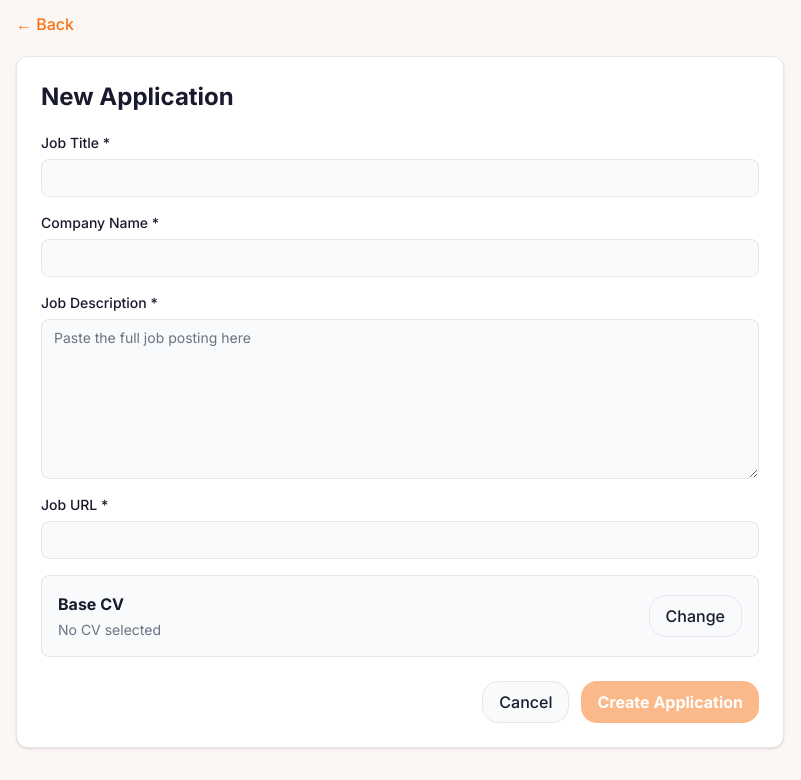
Test case: FE-UI-010 — submission states › shows a client-side inline error when the URL format is invalid and does not submit
Step 1. Type "Software Engineer" into the field labelled "Job Title *" → [400, 178], box 41,159 -> 759,197
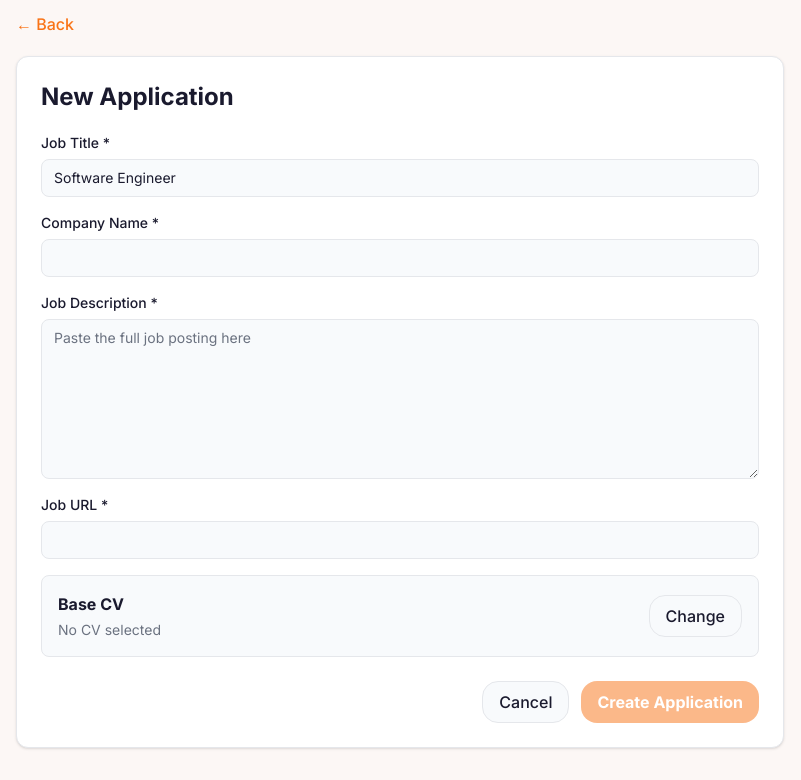
Step 2. Type "Acme Corp" into the field labelled "Company Name *" → [400, 258], box 41,239 -> 759,277
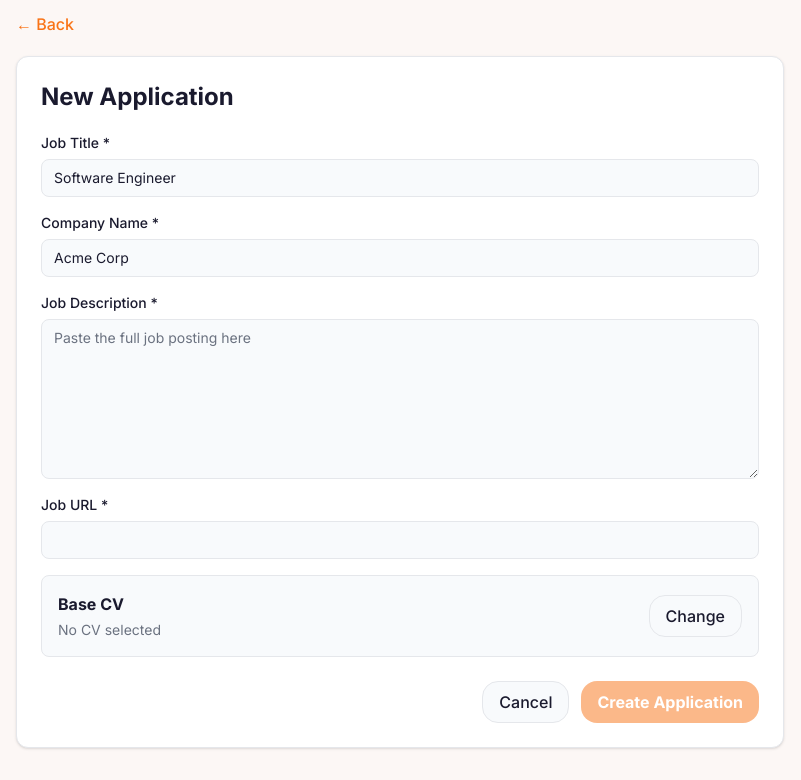
Step 3. Type "Build resilient customer-facing frontend systems." into the text box labelled "Job Description *" → [400, 399], box 41,319 -> 759,479
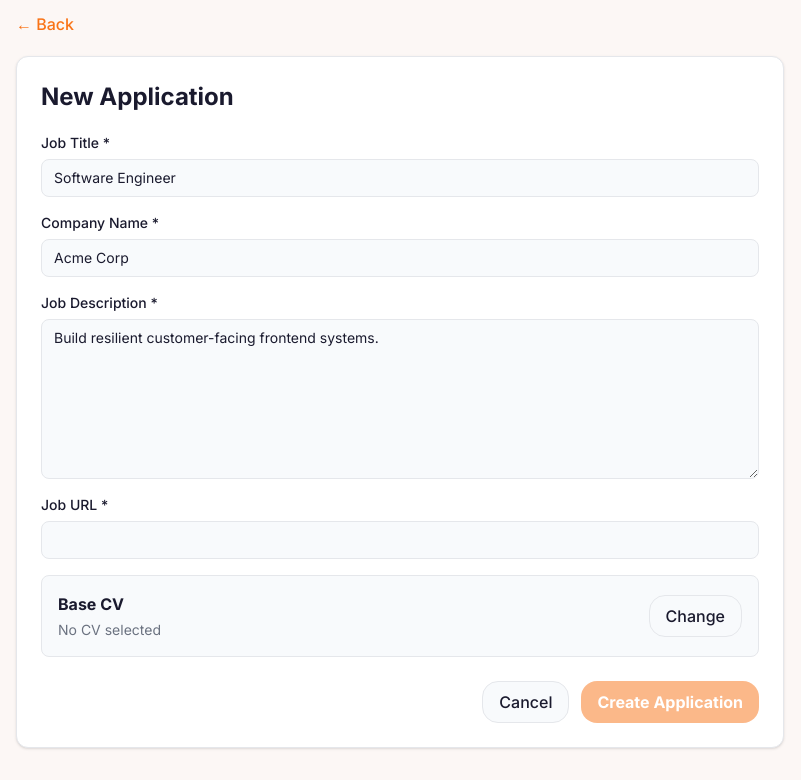
Step 4. Type "ftp://acme.example/jobs/1" into the field labelled "Job URL *" → [400, 540], box 41,521 -> 759,559
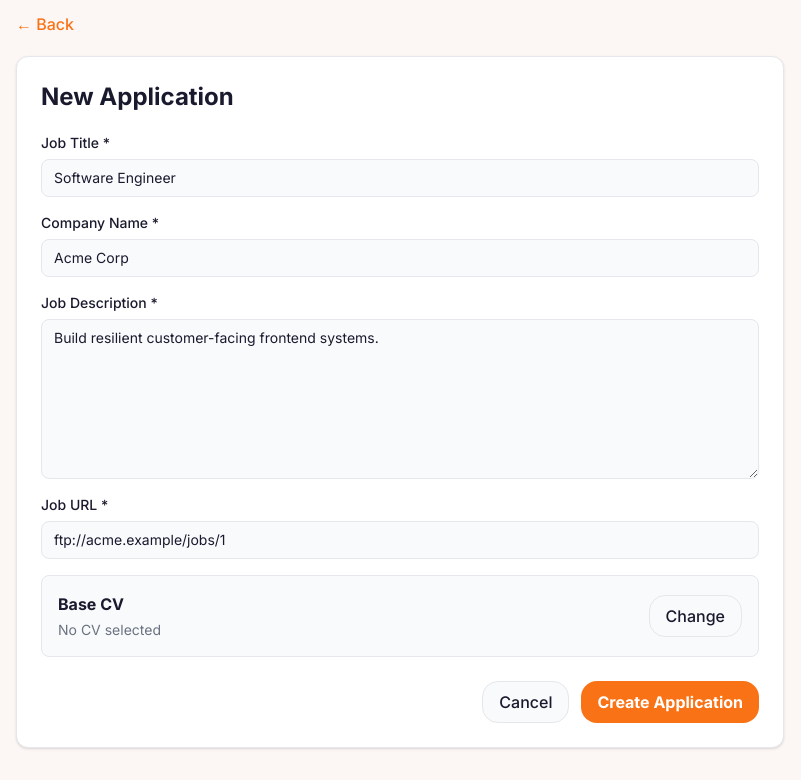
Step 5. Click the button "Create Application" → [670, 702], box 581,681 -> 759,723
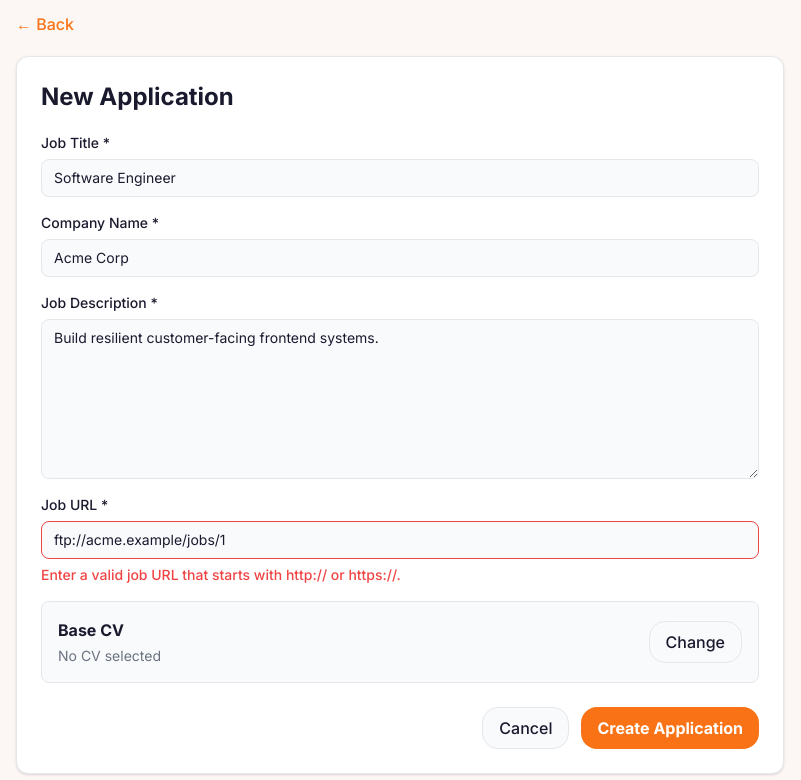
Expected: the text "Enter a valid job URL that starts with http:// or https://." is shown, 41,566 -> 401,583
